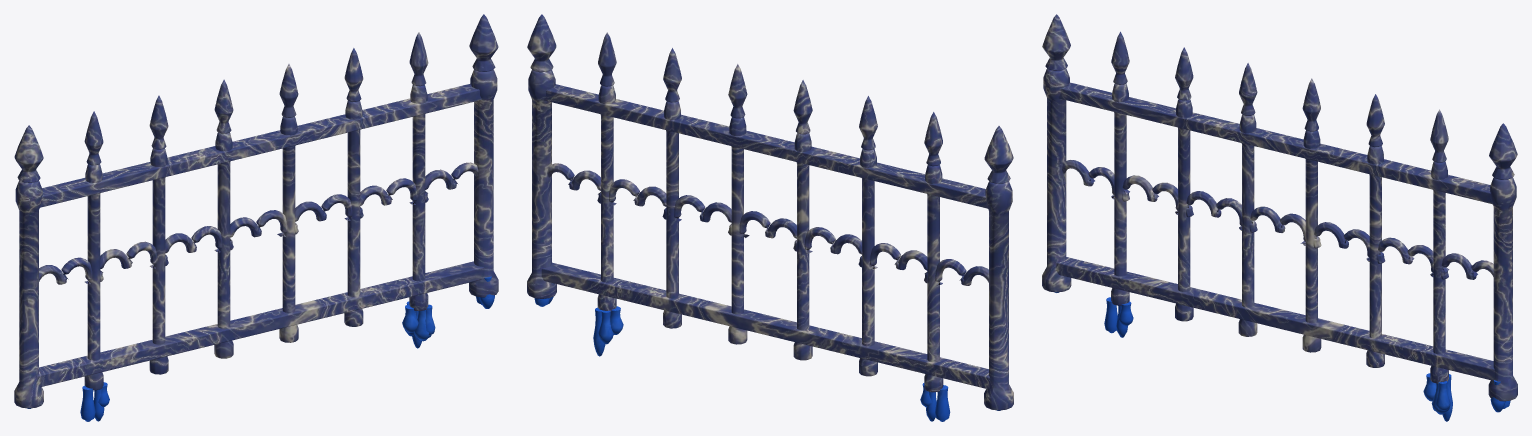
Rendered from fence.glb.
The picture shows the model from 3 angles, left to right: view 1: azimuth 30°, elevation 25°; view 2: azimuth 150°, elevation 25°; view 3: azimuth 330°, elevation 25°; orthographic projection. The views are drawn at different scales.
Visible parts, largest first — view 1: fence; view 2: fence; view 3: fence.
Part boxes in pixels (x1,y1,x2,y2): fence: (14, 14, 498, 421); fence: (527, 14, 1013, 421); fence: (1042, 14, 1517, 421).
Bounding box in the file's own units: 1.95 × 1.25 × 0.116.
Materials: 1 (1 with a texture image).
